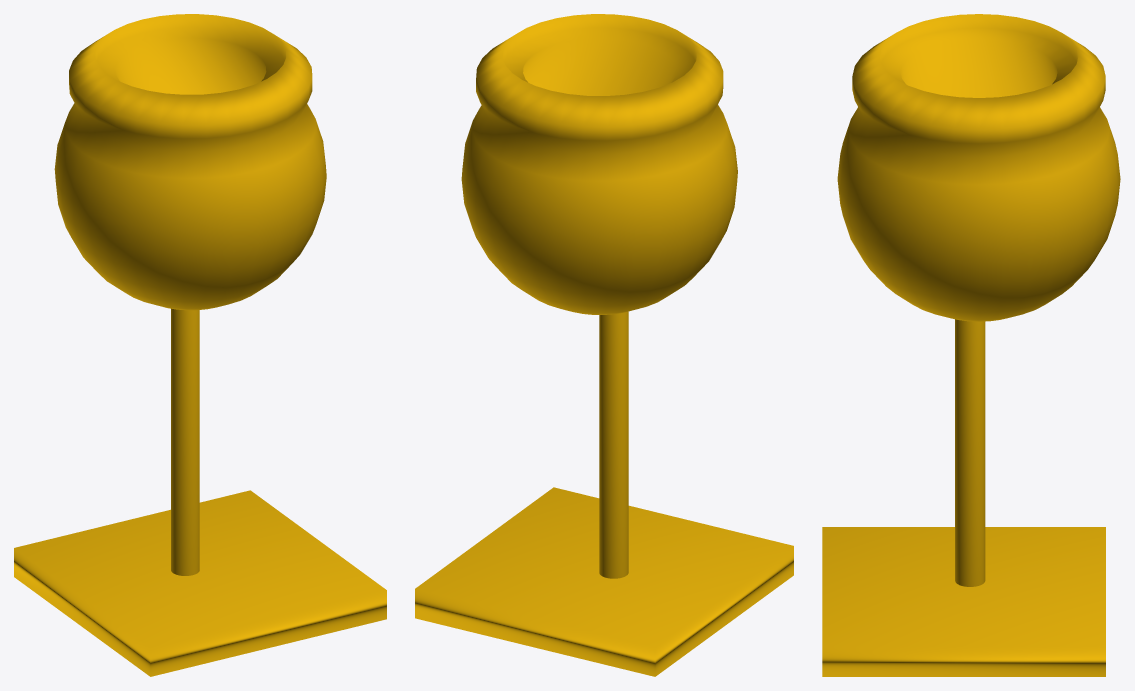
Rendered from trophy.gltf.
3 views of the same model, side by side, from view 1: azimuth 30°, elevation 25°; view 2: azimuth 150°, elevation 25°; view 3: azimuth 270°, elevation 25° (orthographic). The views are drawn at different scales.
Parts seen in each view (by area): view 1: Sphere.001, Cube.001, Cylinder; view 2: Sphere.001, Cube.001, Cylinder; view 3: Sphere.001, Cube.001, Cylinder.
Part boxes in pixels (x1,y1,x2,y2): Sphere.001: (54,14,326,310); Cube.001: (14,490,386,676); Cylinder: (171,308,199,575); Sphere.001: (461,14,737,314); Cube.001: (415,487,793,676); Cylinder: (599,311,628,578); Sphere.001: (837,14,1120,321); Cube.001: (822,527,1105,676); Cylinder: (955,319,985,586).
Size of the model in its own units: 0.7598 by 1.64 by 0.7911.
